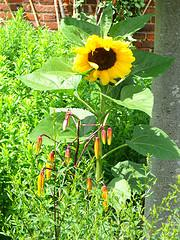sunflower: (74, 35, 134, 84)
